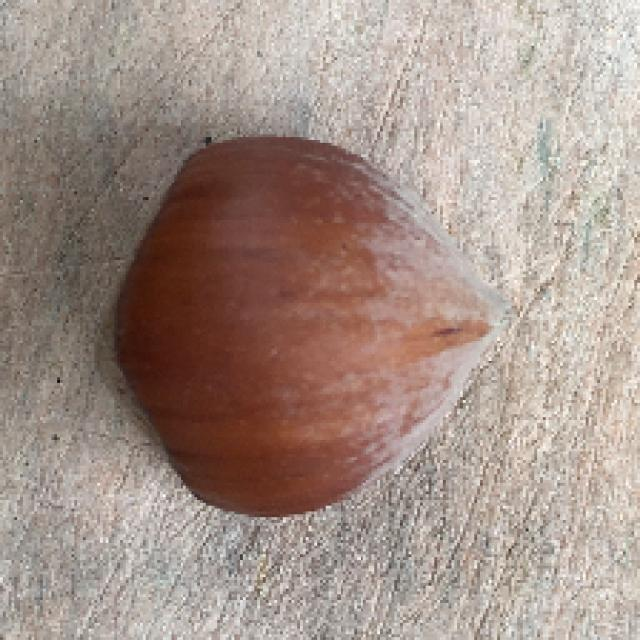qualityHazelnut: (99, 133, 517, 519)
